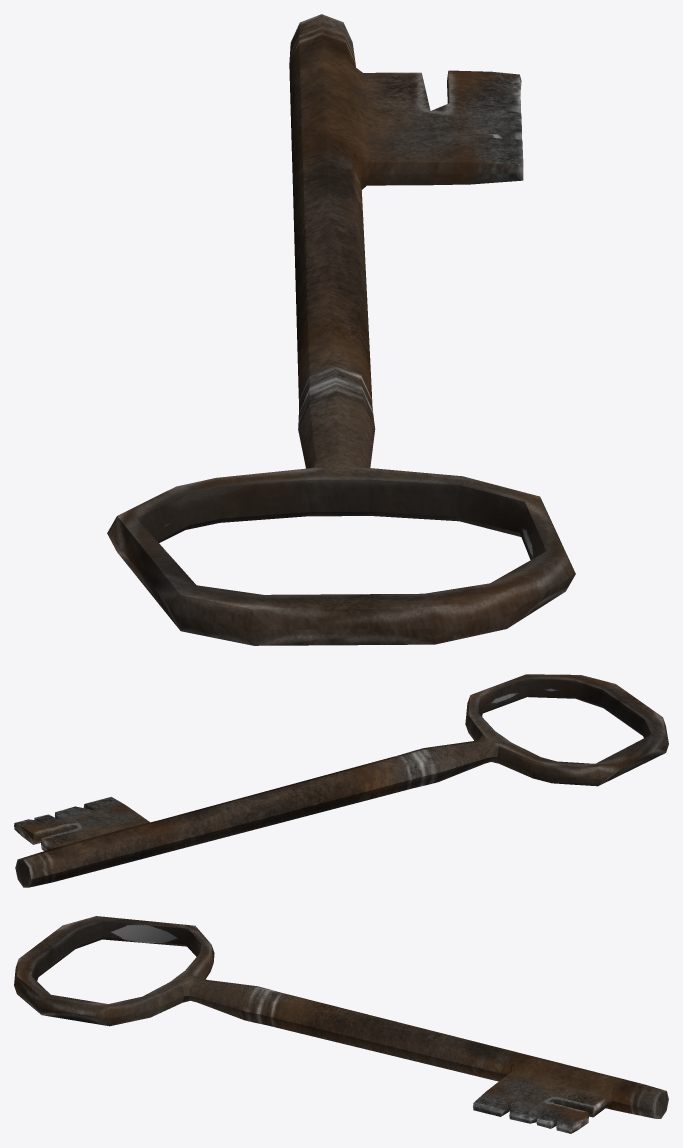
The model's file is key.fbx.
3 views of the same model, one above another, from view 1: azimuth 30°, elevation 25°; view 2: azimuth 150°, elevation 25°; view 3: azimuth 270°, elevation 25° (orthographic). The views are drawn at different scales.
Parts seen in each view (by area): view 1: key; view 2: key; view 3: key.
Part boxes in pixels (left/top/right/bottom): key: left=107, top=14, right=575, bottom=645; key: left=14, top=674, right=668, bottom=887; key: left=14, top=916, right=668, bottom=1133.
Bounding box in the file's own units: 25.93 × 2.23 × 35.85.
Materials: 1 (1 with a texture image).
